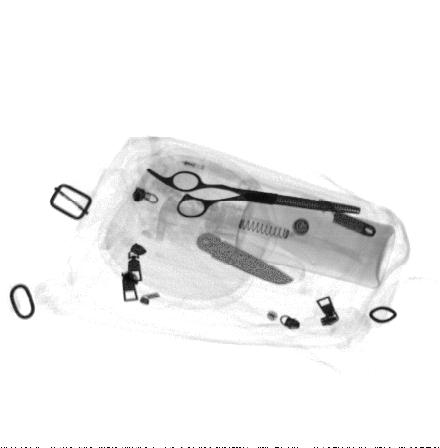Knife: (196, 234, 295, 285)
Scissors: (144, 167, 361, 218)
